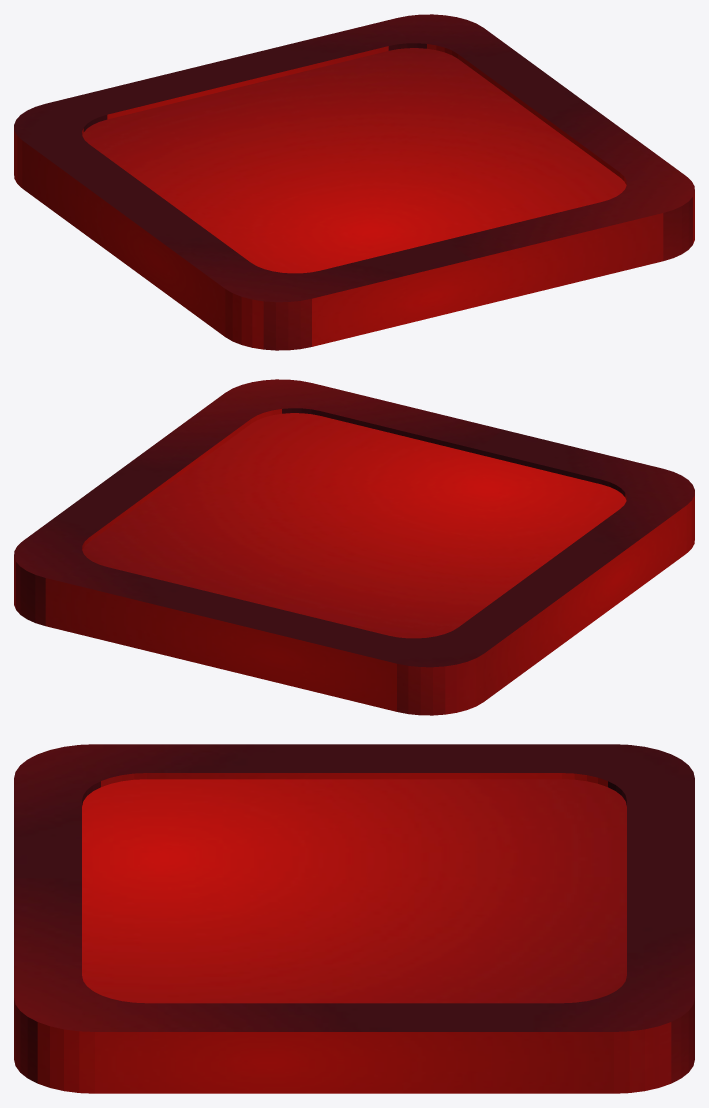
File: square_puck.obj
3 views of the same model, one above another, from view 1: azimuth 30°, elevation 25°; view 2: azimuth 150°, elevation 25°; view 3: azimuth 270°, elevation 25° (orthographic). The views are drawn at different scales.
Visible parts, largest first — view 1: Cylinder.002; view 2: Cylinder.002; view 3: Cylinder.002.
Boxes of the visible parts, x1,y1,x2,y2 form: Cylinder.002: [14, 14, 694, 350]; Cylinder.002: [14, 379, 694, 715]; Cylinder.002: [14, 744, 694, 1093].
Bounding box in the file's own units: 1 × 0.1 × 1.
Materials: 1 (1 with a texture image).
